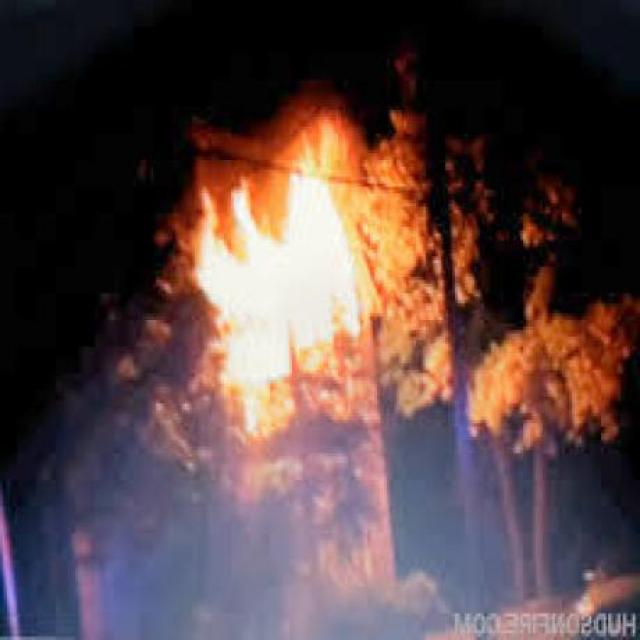Fire: (184, 166, 376, 429)
